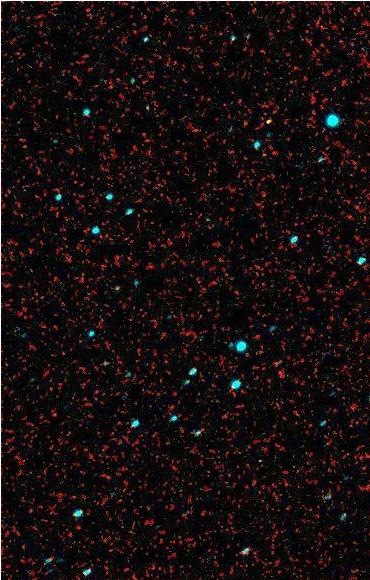star: (251, 104, 281, 134)
